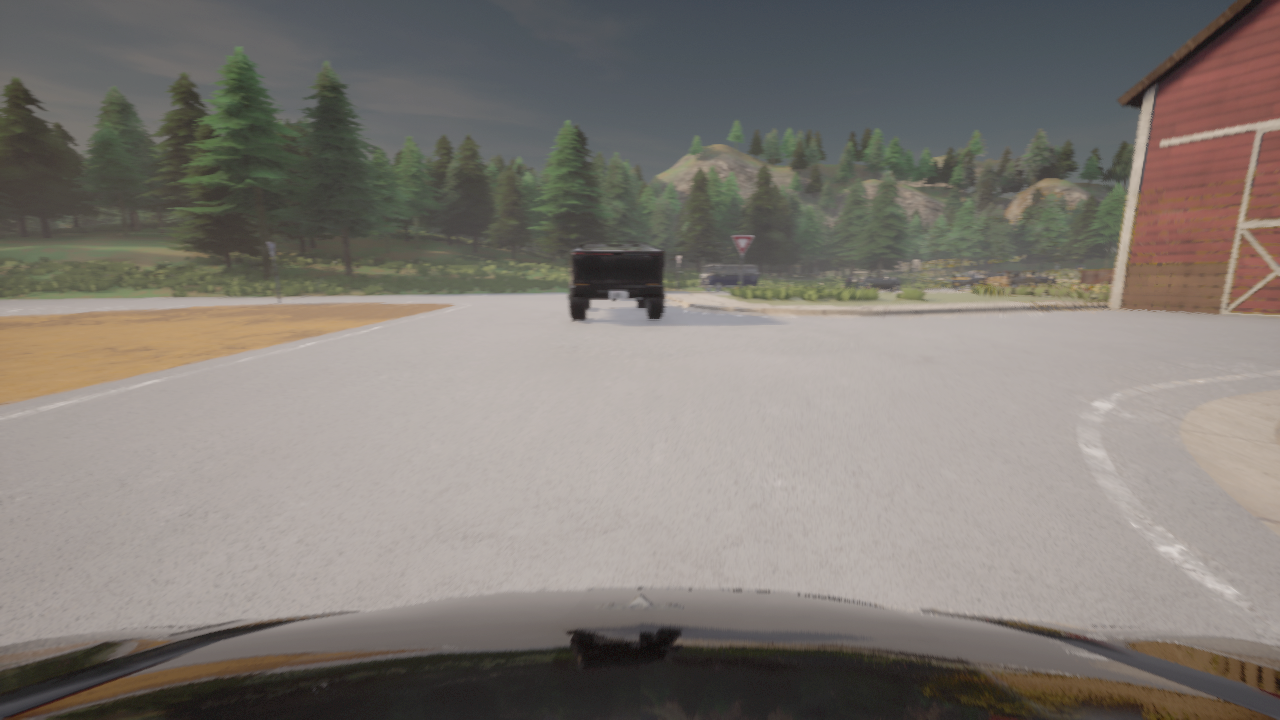cyclist: (0, 588, 1279, 719), (568, 242, 664, 320), (697, 264, 758, 291), (845, 271, 900, 290), (985, 270, 1040, 287), (950, 271, 992, 289), (1023, 271, 1056, 285), (613, 299, 614, 300)
